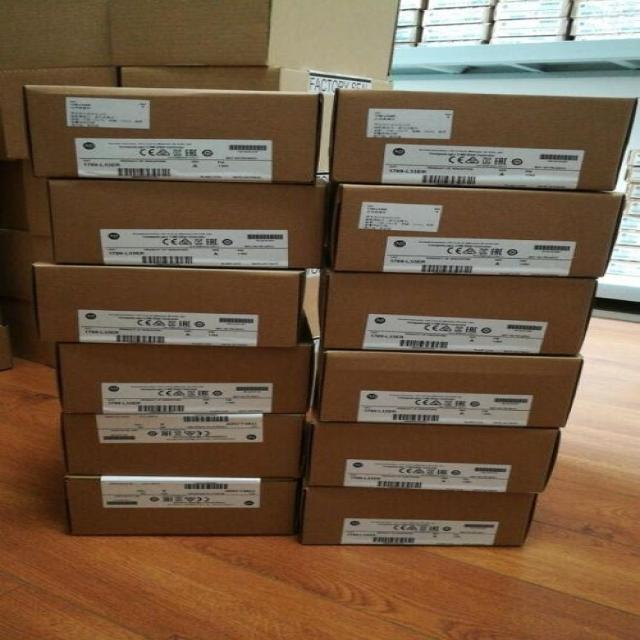box: (119, 65, 394, 183), (330, 90, 640, 191), (22, 84, 320, 183), (333, 183, 627, 276), (46, 179, 328, 267), (317, 270, 599, 356), (33, 261, 307, 347), (109, 0, 401, 79), (320, 349, 584, 427), (307, 423, 562, 494), (55, 344, 315, 413), (61, 412, 306, 478), (302, 486, 540, 547), (63, 476, 297, 535), (0, 66, 116, 158), (0, 0, 113, 67), (493, 18, 570, 37), (571, 15, 640, 36), (422, 22, 492, 41), (422, 6, 492, 25), (494, 2, 571, 19), (571, 0, 640, 18), (489, 35, 567, 44), (429, 0, 495, 8), (416, 40, 485, 47), (575, 33, 639, 40), (394, 27, 420, 43), (397, 9, 420, 26), (399, 0, 425, 10)
